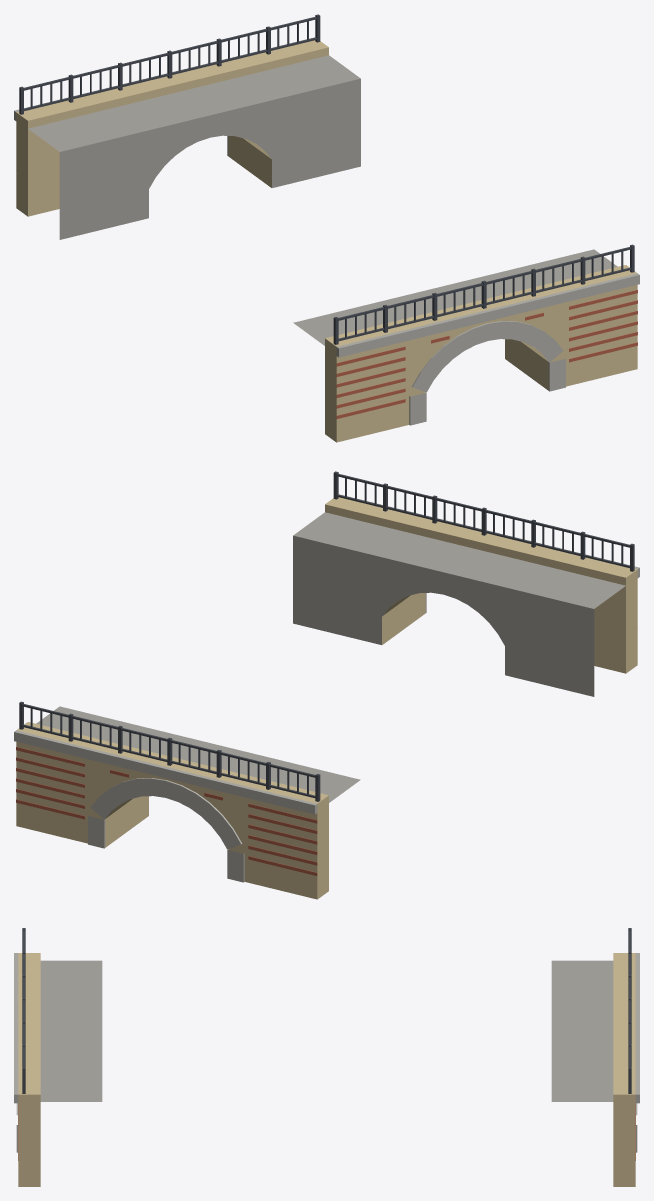
File: nyc-playmates-arch.glb
3 views of the same model, one above another, from view 1: azimuth 30°, elevation 25°; view 2: azimuth 150°, elevation 25°; view 3: azimuth 270°, elevation 25° (orthographic). The views are drawn at different scales.
Parts seen in each view (by area): view 1: Playmates Arch; view 2: Playmates Arch; view 3: Playmates Arch.
Boxes of the visible parts, x1,y1,x2,y2 form: Playmates Arch: (14, 14, 639, 442); Playmates Arch: (14, 471, 639, 899); Playmates Arch: (14, 928, 639, 1186).
Size of the model in its own units: 12 by 4.65 by 22.42.
